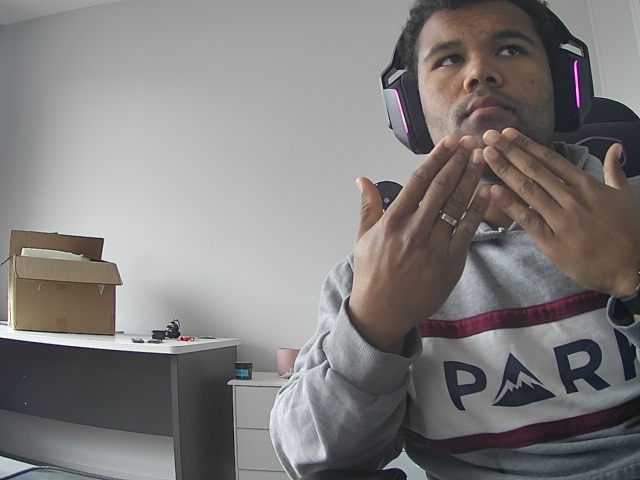ThankYou: (332, 116, 640, 329)
